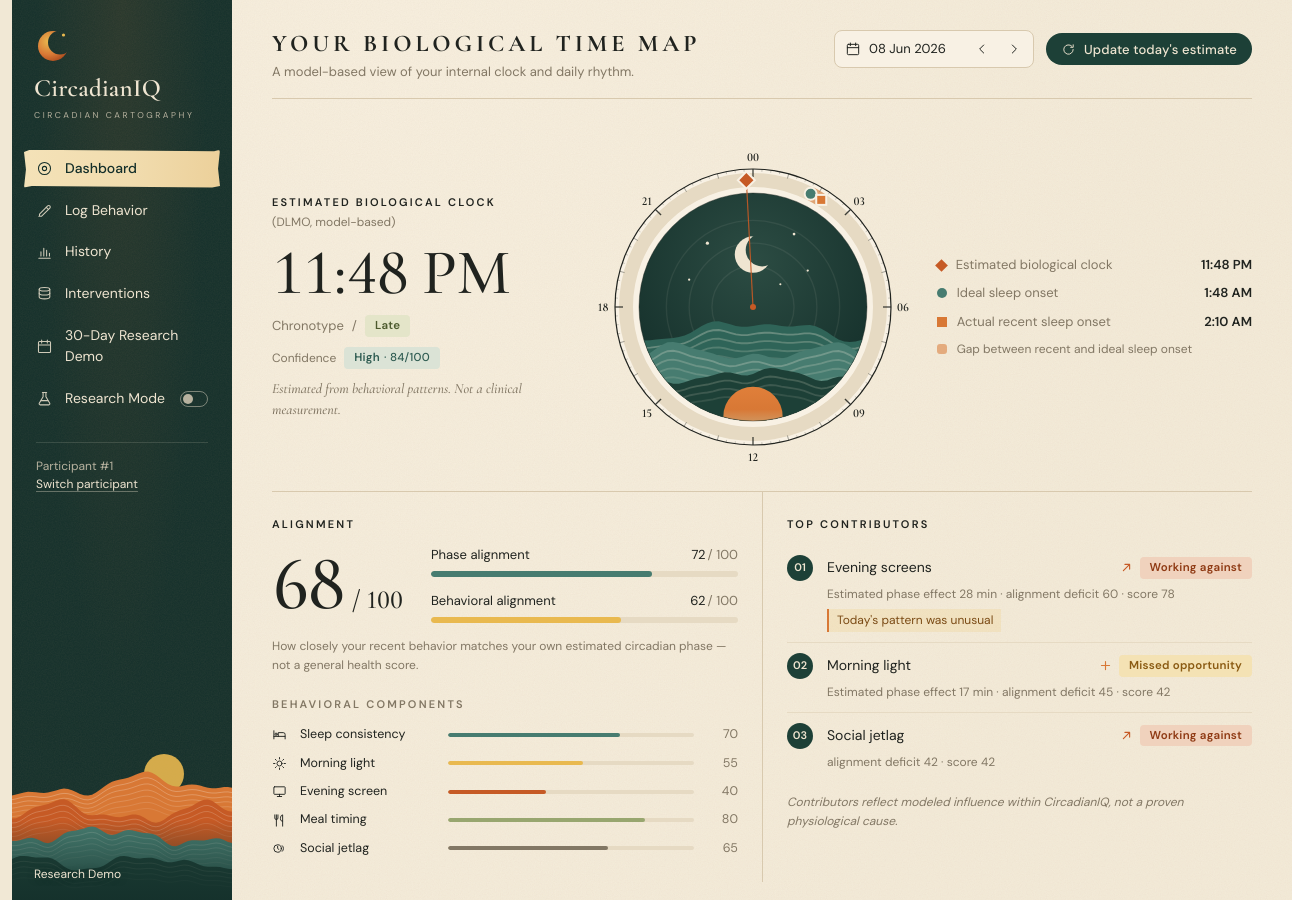
Test: End-to-end UI flows › runs inference on demand and refreshes the displayed status
The image size is (1292, 900).
Expected: the text "Estimated Biological Clock" is shown, x1=272 y1=195 x2=496 y2=209
Click the button "Update today's estimate".
click(1149, 49)  # box x1=1046 y1=33 x2=1252 y2=65
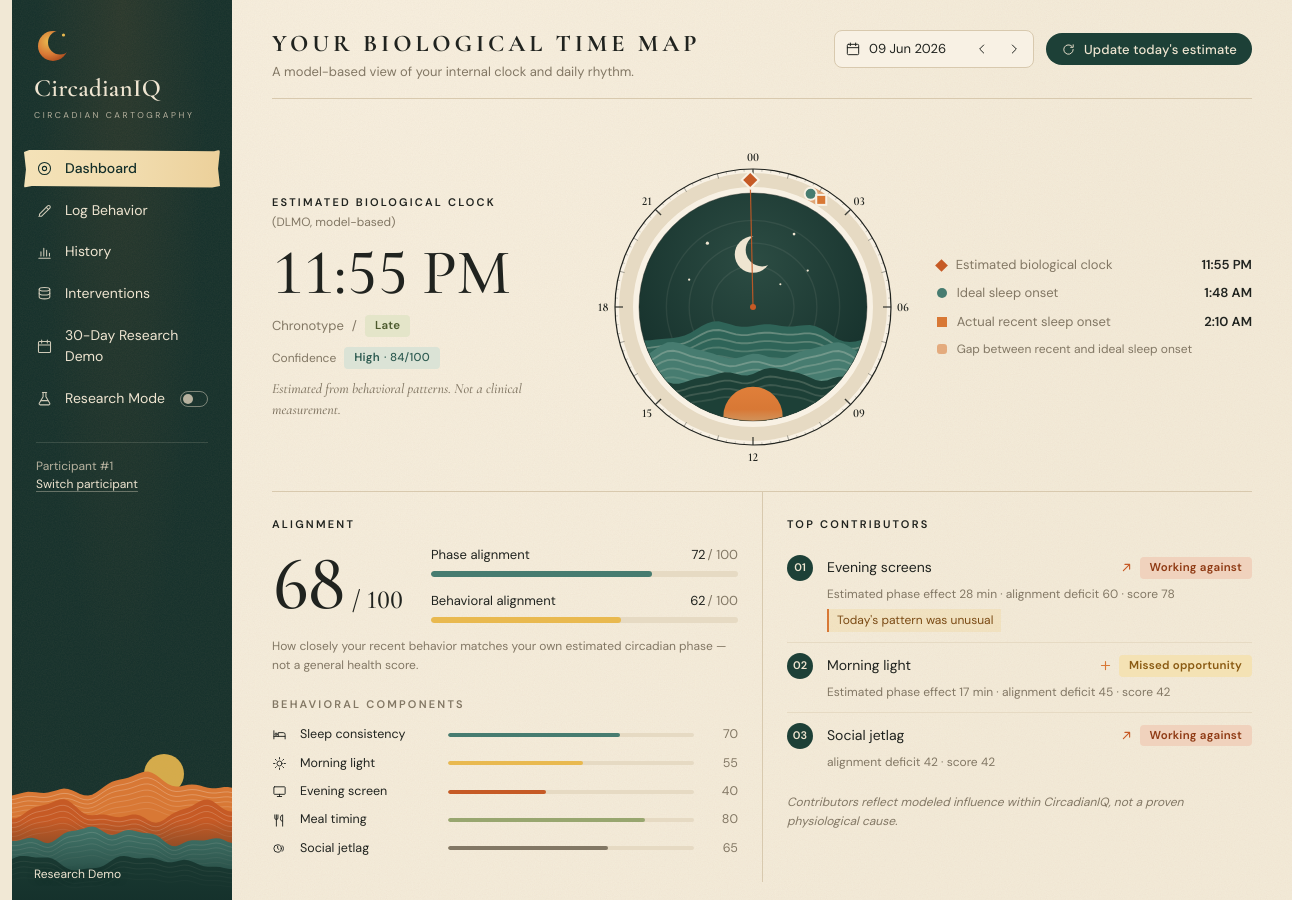
Result: the picture named "11:55 PM" is shown at x1=593 y1=147 x2=913 y2=467
